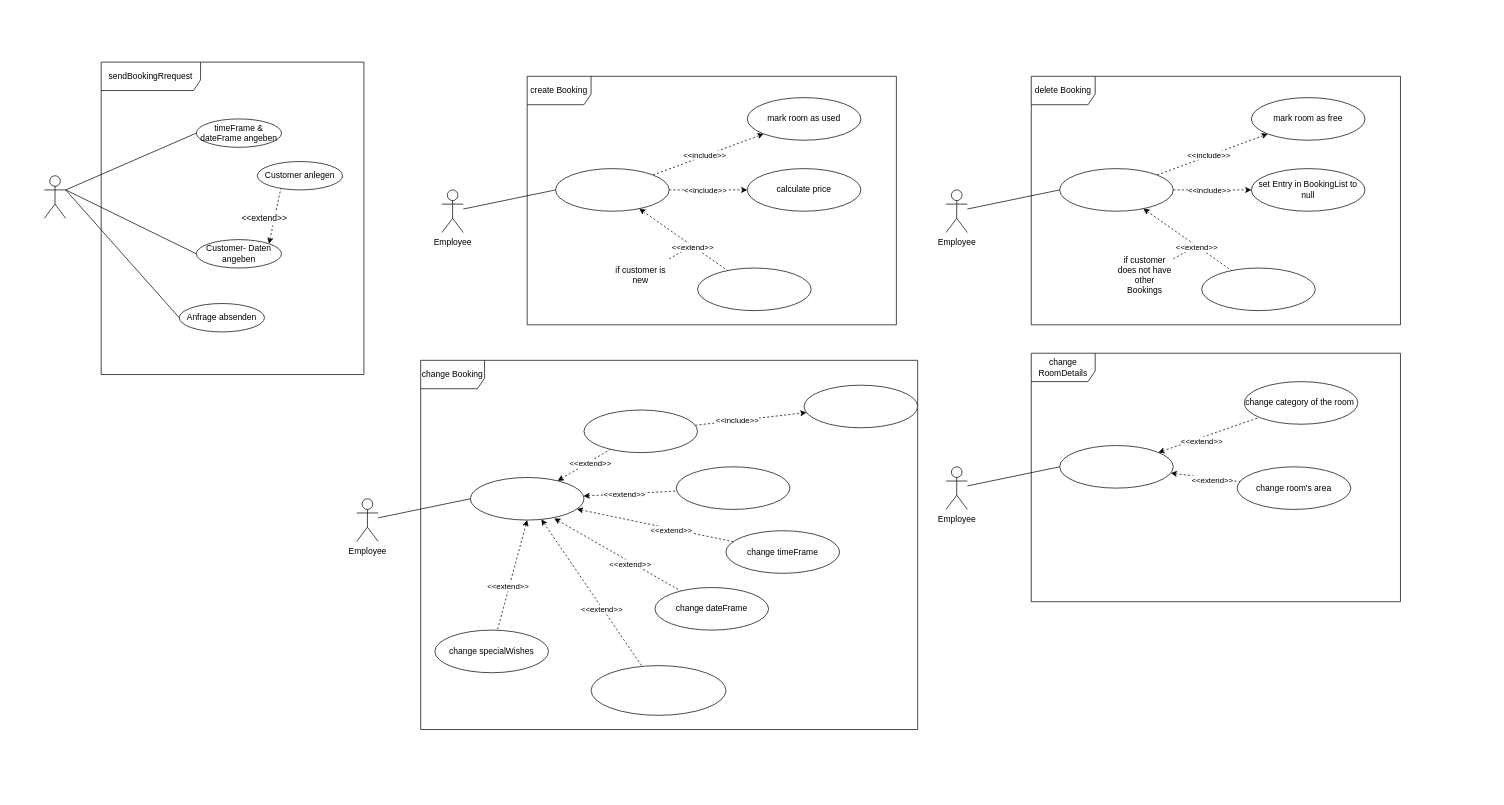
The diagram is 1504 pixels wide and 805 high, and some of its shapes have lost their labels. Each missing label, with the centre of its shape:
"remove" Booking from BookingList: (1116,189)
add Booking to BookingList: (612,189)
change Booking in BookingList: (527,498)
change isBusinessCustomer Value: (658,690)
change pricing: (733,487)
change Room Number: (640,431)
change RoomDetails to match real world changes: (1116,466)
create new Customer: (754,289)
Customer: (55,196)
delete Customer: (1258,289)
mark old room as free mark new room as used: (860,406)
